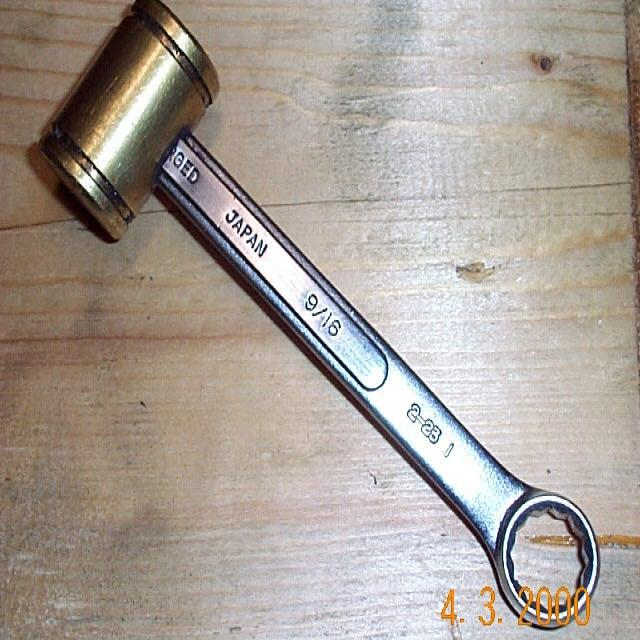hammer: (28, 0, 620, 621)
